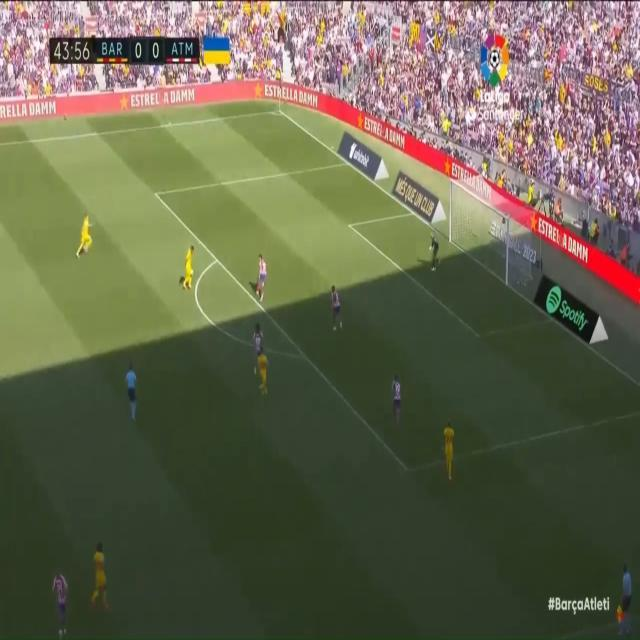ball: (190, 268, 196, 280)
goalkeeper: (427, 225, 447, 275)
player: (49, 565, 77, 638), (89, 536, 110, 617), (248, 249, 275, 303), (181, 235, 203, 299), (74, 212, 94, 261), (440, 420, 456, 481), (387, 368, 405, 420), (332, 281, 346, 341), (257, 347, 272, 397), (250, 321, 262, 376)
referee: (611, 556, 635, 636), (126, 364, 142, 418)
